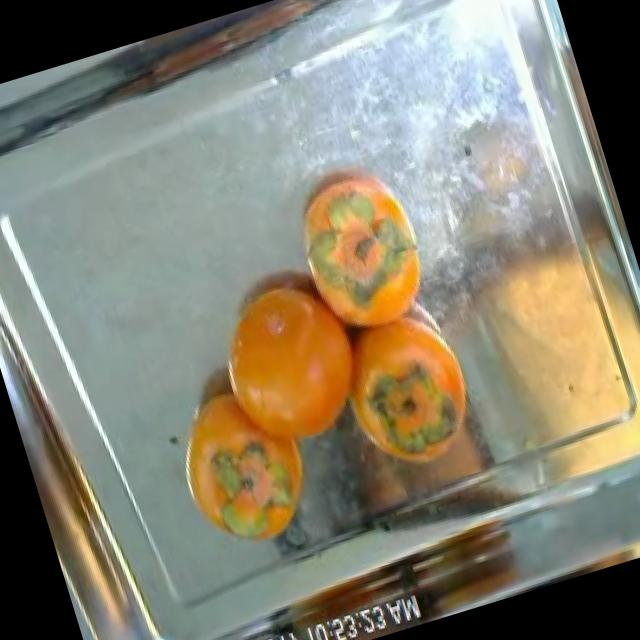Fruit: (181, 234, 401, 484), (143, 345, 348, 579)
